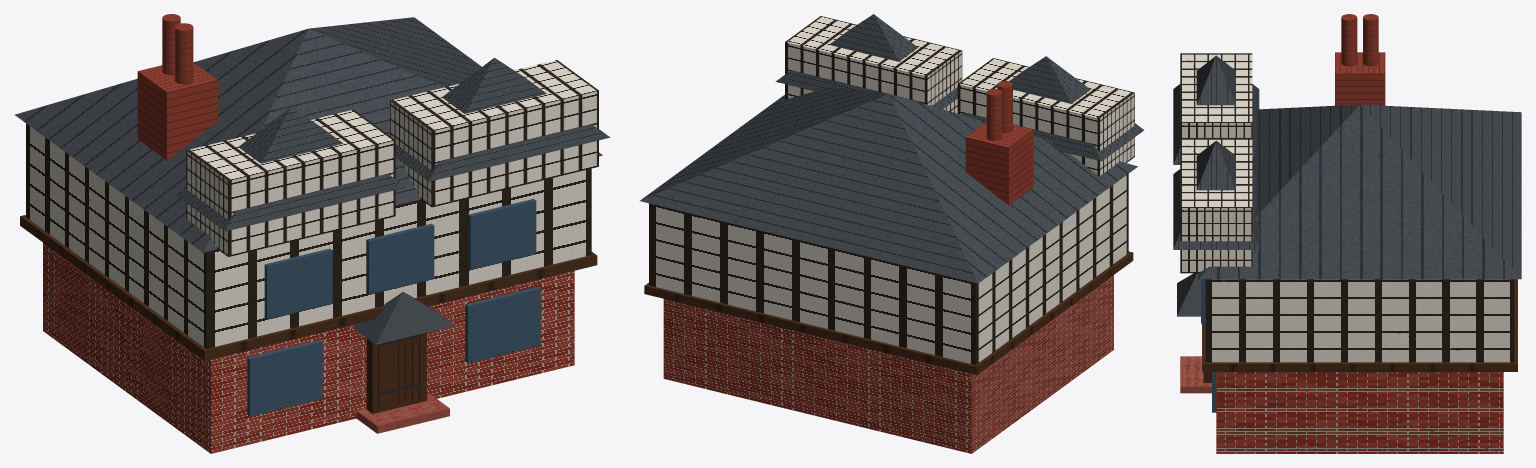
The model's file is house_large_03_tudor_revival.glb.
3 renders of one model, left to right at view 1: azimuth 30°, elevation 25°; view 2: azimuth 150°, elevation 25°; view 3: azimuth 270°, elevation 25°, orthographic. The views are drawn at different scales.
Visible parts, largest first — view 1: House_Large_03_Tudor_Revival; view 2: House_Large_03_Tudor_Revival; view 3: House_Large_03_Tudor_Revival.
Boxes of the visible parts, x1,y1,x2,y2 form: House_Large_03_Tudor_Revival: [14, 14, 610, 453]; House_Large_03_Tudor_Revival: [640, 14, 1144, 453]; House_Large_03_Tudor_Revival: [1173, 14, 1521, 453].
Bounding box in the file's own units: 11 × 9.4 × 9.7.
Materials: 1 (1 with a texture image).
